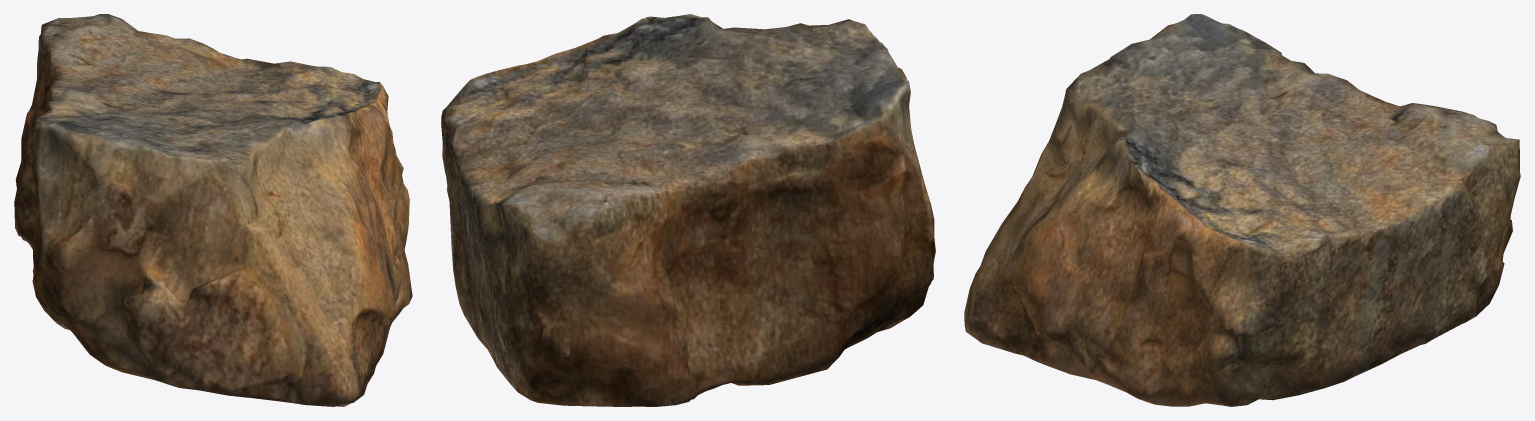
The model's file is namaqualand_boulder_03.glb.
3 views of the same model, side by side, from view 1: azimuth 30°, elevation 25°; view 2: azimuth 150°, elevation 25°; view 3: azimuth 270°, elevation 25° (orthographic). The views are drawn at different scales.
Visible parts, largest first — view 1: boulder_03_LOD0; view 2: boulder_03_LOD0; view 3: boulder_03_LOD0.
Part boxes in pixels (box(x1,y1,x2,y2)): boulder_03_LOD0: box(14, 14, 412, 406); boulder_03_LOD0: box(441, 14, 935, 406); boulder_03_LOD0: box(964, 14, 1520, 406).
Bounding box in the file's own units: 2.4 × 1.47 × 3.06.
1 material, 1 textured.
